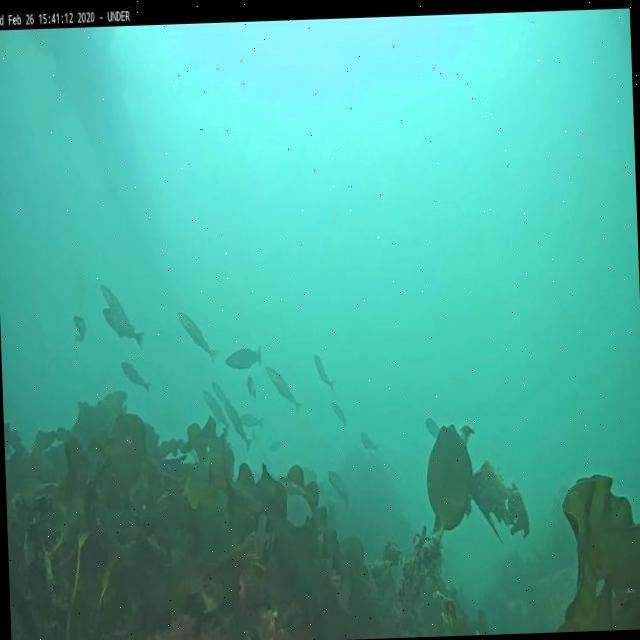fish: (178, 310, 219, 362), (102, 308, 146, 350), (264, 366, 298, 409), (100, 280, 132, 324), (225, 400, 252, 448), (118, 358, 150, 392), (200, 389, 227, 426), (227, 348, 263, 373), (328, 471, 351, 506), (314, 351, 334, 390), (358, 431, 379, 454), (70, 314, 86, 344), (330, 398, 346, 424), (242, 414, 261, 434), (212, 385, 228, 401), (248, 380, 256, 398), (270, 441, 282, 451)
